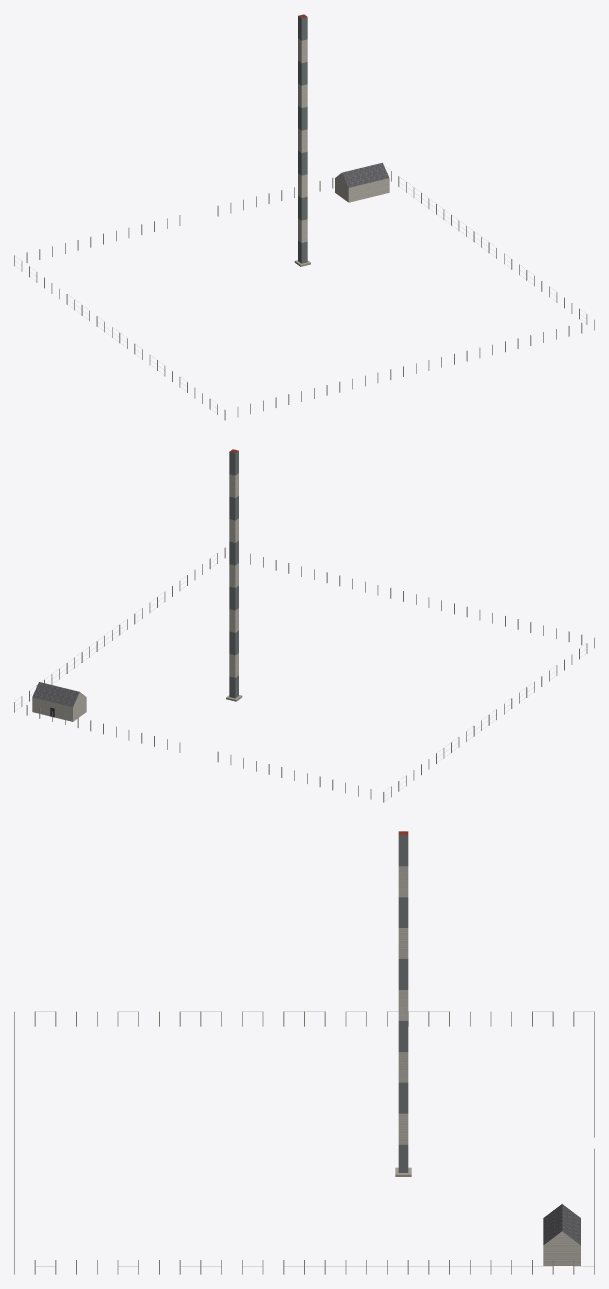
File: cyxd_ndb_xd_lod1.gltf
3 renders of one model, top to bottom at view 1: azimuth 30°, elevation 25°; view 2: azimuth 150°, elevation 25°; view 3: azimuth 270°, elevation 25°, orthographic. The views are drawn at different scales.
Visible parts, largest first — view 1: cyxd_ndb_xd; view 2: cyxd_ndb_xd; view 3: cyxd_ndb_xd.
Boxes of the visible parts, bbox=[...] form: cyxd_ndb_xd: bbox=[14, 14, 594, 420]; cyxd_ndb_xd: bbox=[14, 449, 594, 802]; cyxd_ndb_xd: bbox=[14, 831, 594, 1274].
Size of the model in its own units: 86.12 by 55 by 85.12.
